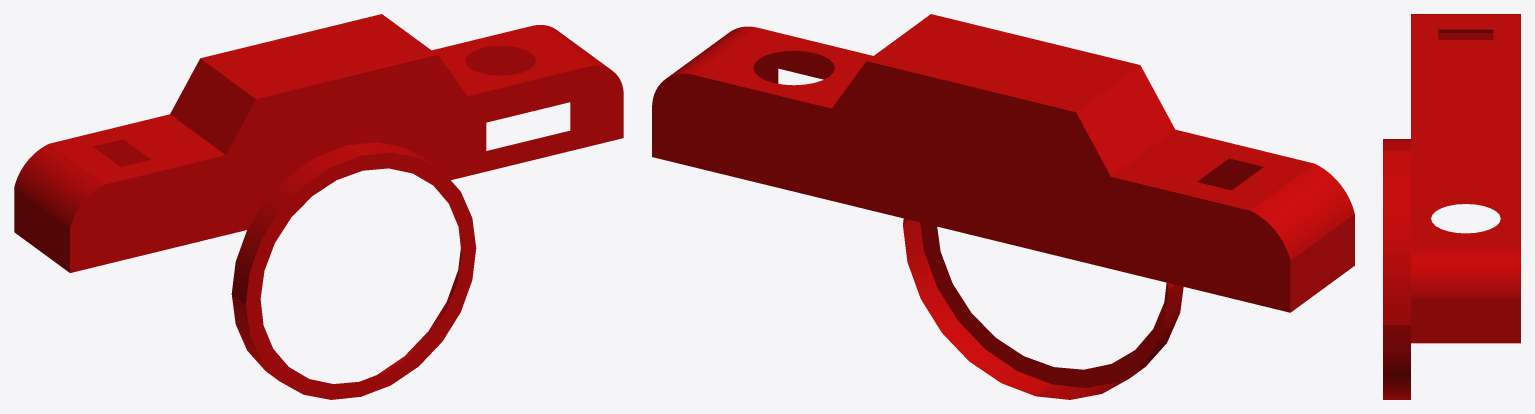
The model's file is original-2.obj.
The picture shows the model from 3 angles, left to right: view 1: azimuth 30°, elevation 25°; view 2: azimuth 150°, elevation 25°; view 3: azimuth 270°, elevation 25°; orthographic projection. The views are drawn at different scales.
Visible parts, largest first — view 1: #ID11; view 2: #ID11; view 3: #ID11.
Boxes of the visible parts, x1,y1,x2,y2 form: #ID11: (14, 14, 623, 399); #ID11: (652, 14, 1354, 399); #ID11: (1383, 14, 1520, 399).
Size of the model in its own units: 1.77 by 0.945 by 0.3874.
